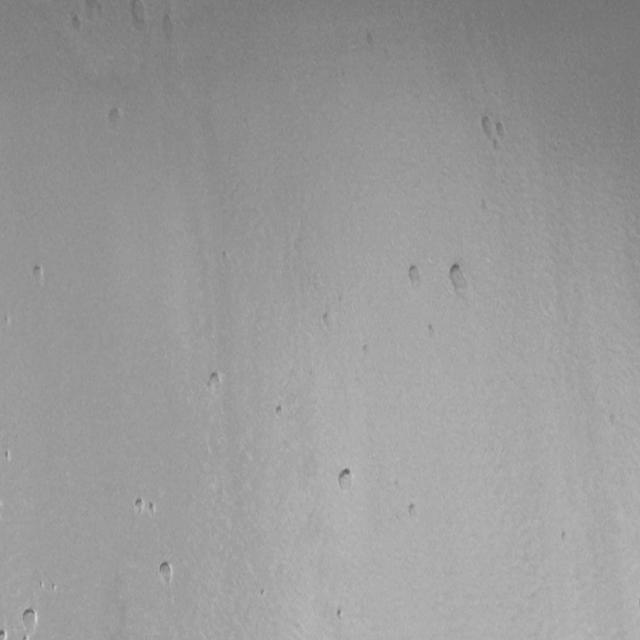pin holes: (443, 261, 473, 300), (475, 114, 504, 150), (156, 10, 181, 42), (125, 0, 151, 30), (19, 606, 42, 635), (335, 465, 358, 494), (205, 369, 228, 396), (155, 560, 176, 589), (105, 106, 126, 134), (404, 262, 425, 289), (28, 261, 49, 287), (491, 118, 511, 144), (67, 8, 87, 33), (317, 308, 336, 332), (406, 502, 422, 522), (335, 606, 350, 624), (3, 446, 16, 466), (273, 402, 287, 420), (147, 502, 161, 519), (426, 323, 439, 341), (131, 498, 145, 514), (361, 342, 374, 358), (222, 248, 232, 268), (558, 530, 570, 546), (259, 583, 269, 601), (1, 448, 12, 464), (49, 582, 60, 596), (0, 627, 8, 639)
